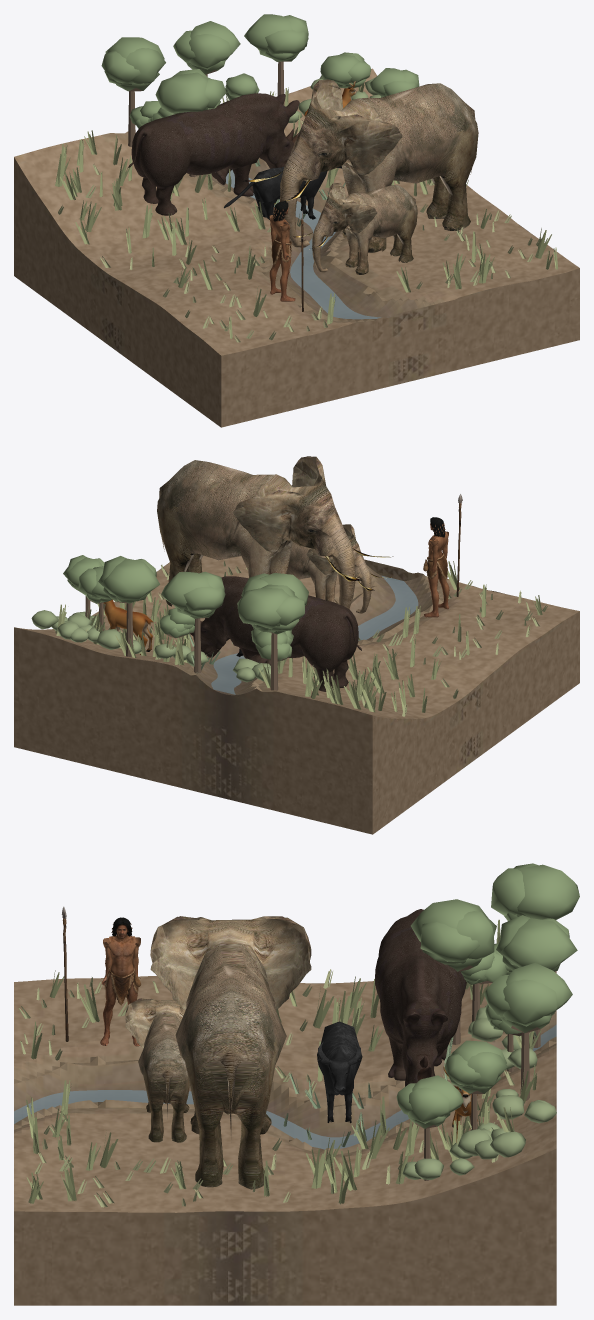
File: ekosistem-jawa-pleistosen.glb
3 renders of one model, top to bottom at view 1: azimuth 30°, elevation 25°; view 2: azimuth 150°, elevation 25°; view 3: azimuth 270°, elevation 25°, orthographic. The views are drawn at different scales.
Parts seen in each view (by area): view 1: Terrain_Base, Object_3, Object_2, Object_3.001, Tree_6, Tree_1, Tree_4, Tree_3, River, Homo_Erectus_Placeholder, mesh_0.002, Tree_5 (+2 smaller); view 2: Terrain_Base, Object_3, Object_2, Tree_6, Tree_3, Object_3.001, Tree_1, River, Homo_Erectus_Placeholder, Deer, Tree_4, Tree_5 (+3 smaller); view 3: Terrain_Base, Object_3, Object_2, Object_3.001, Tree_1, Tree_4, Tree_6, Homo_Erectus_Placeholder, Tree_3, River, Tree_5, mesh_0.002 (+4 smaller).
Boxes of the visible parts, left/top/right/bottom form: Terrain_Base: left=14, top=68, right=579, bottom=427; Object_3: left=280, top=79, right=478, bottom=252; Object_2: left=128, top=93, right=299, bottom=215; Object_3.001: left=312, top=183, right=417, bottom=274; Tree_6: left=101, top=37, right=165, bottom=146; Tree_1: left=244, top=14, right=308, bottom=105; Tree_4: left=155, top=69, right=226, bottom=177; Tree_3: left=173, top=21, right=240, bottom=76; River: left=225, top=169, right=381, bottom=319; Homo_Erectus_Placeholder: left=269, top=200, right=303, bottom=311; mesh_0.002: left=224, top=166, right=341, bottom=219; Tree_5: left=320, top=52, right=371, bottom=88; Terrain_Base: left=14, top=555, right=579, bottom=834; Object_3: left=157, top=456, right=355, bottom=608; Object_2: left=190, top=576, right=361, bottom=691; Tree_6: left=237, top=584, right=304, bottom=690; Tree_3: left=161, top=571, right=225, bottom=673; Object_3.001: left=287, top=524, right=371, bottom=613; Tree_1: left=98, top=556, right=160, bottom=656; River: left=211, top=575, right=418, bottom=694; Homo_Erectus_Placeholder: left=423, top=494, right=462, bottom=617; Deer: left=103, top=599, right=152, bottom=654; Tree_4: left=241, top=573, right=308, bottom=664; Tree_5: left=78, top=566, right=112, bottom=630; Terrain_Base: left=14, top=971, right=556, bottom=1305; Object_3: left=150, top=916, right=311, bottom=1189; Object_2: left=375, top=909, right=466, bottom=1086; Object_3.001: left=125, top=998, right=189, bottom=1142; Tree_1: left=484, top=962, right=572, bottom=1100; Tree_4: left=410, top=899, right=496, bottom=1044; Tree_6: left=491, top=863, right=579, bottom=920; Homo_Erectus_Placeholder: left=61, top=906, right=141, bottom=1046; Tree_3: left=496, top=915, right=577, bottom=1047; River: left=14, top=1024, right=556, bottom=1149; Tree_5: left=444, top=1040, right=507, bottom=1130; mesh_0.002: left=317, top=1021, right=362, bottom=1123.
Size of the model in its own units: 6.04 by 3.49 by 6.26.
Materials: 24 (16 with a texture image).
